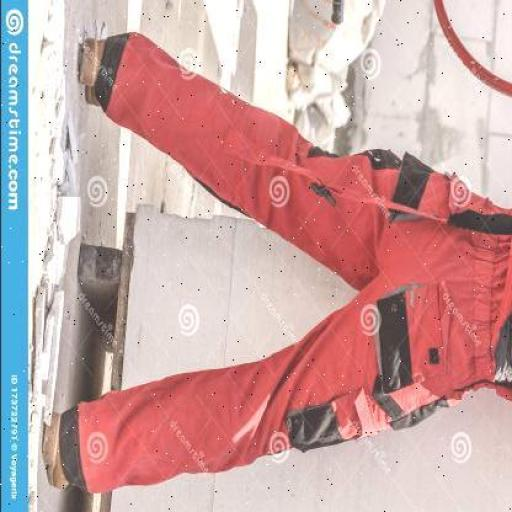safety_shoe: (74, 36, 116, 110)
